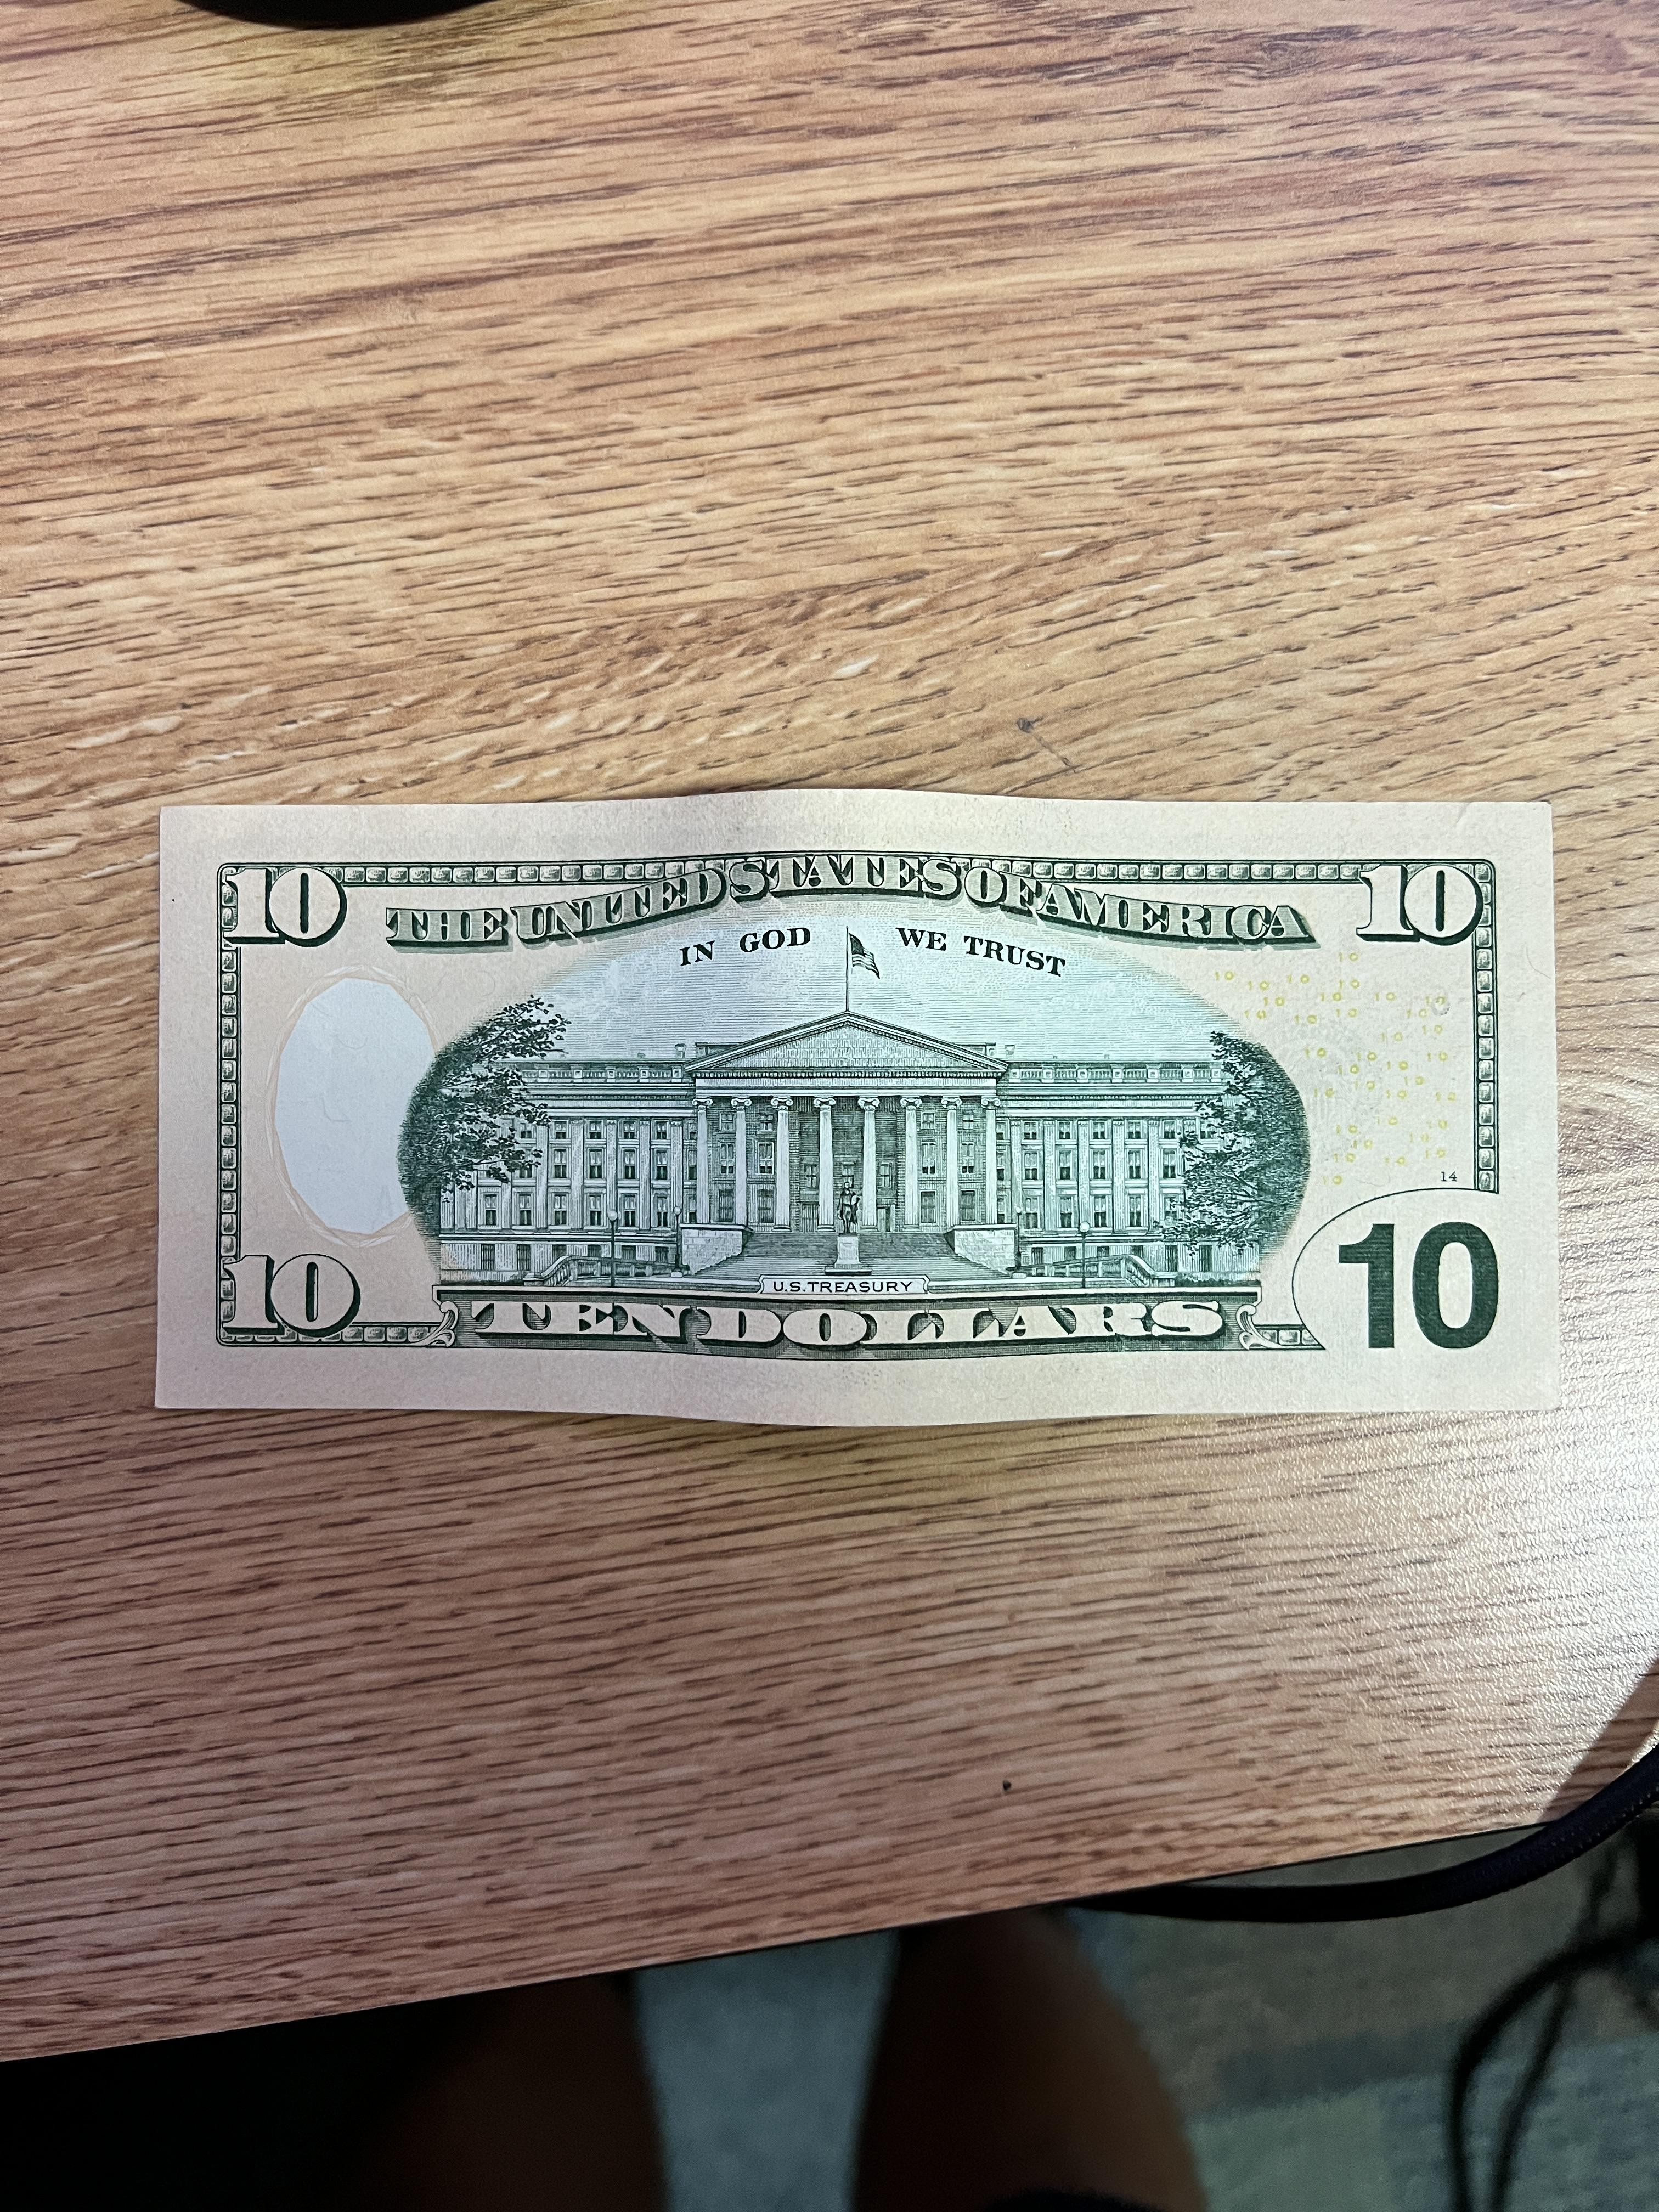TenBill: (146, 786, 1561, 1439)
